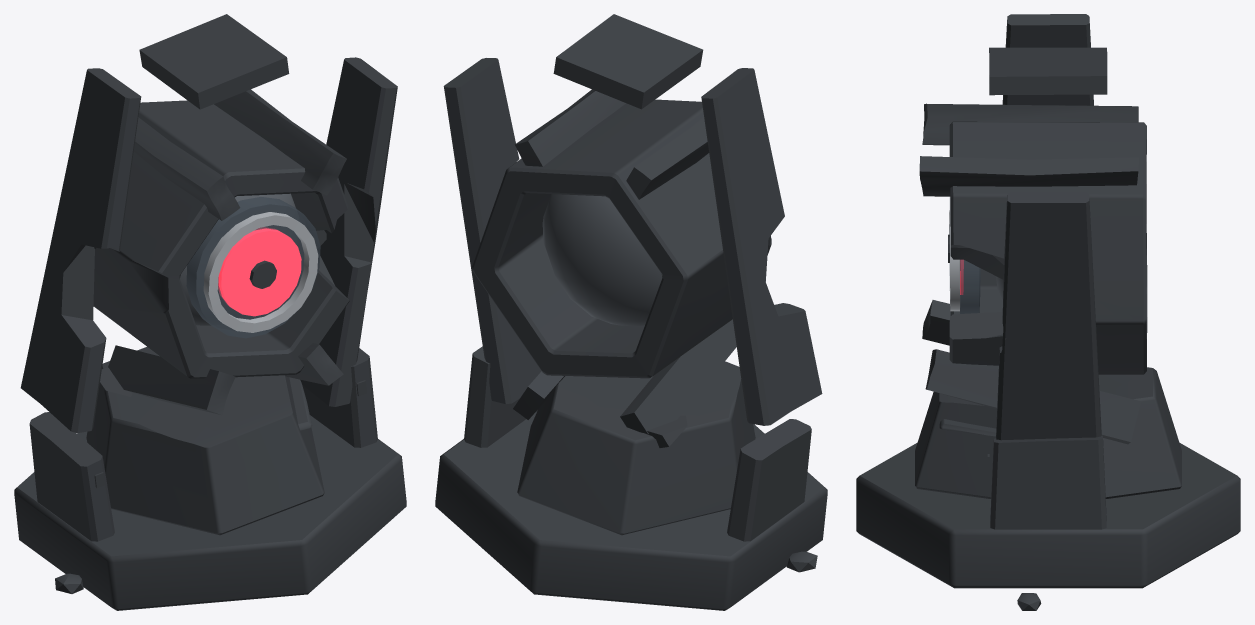
Rendered from cvt_deb_surveillance_core_a.glb.
3 views of the same model, side by side, from view 1: azimuth 30°, elevation 25°; view 2: azimuth 150°, elevation 25°; view 3: azimuth 270°, elevation 25° (orthographic).
Parts seen in each view (by area): view 1: frag_05, husk, frag_06, frag_04, frag_01, frag_03, frag_02; view 2: frag_05, husk, frag_06, frag_04, frag_01, frag_03, frag_02; view 3: husk, frag_05, frag_01, frag_06, frag_02, frag_03, frag_04.
Boxes of the visible parts, left/top/right/bottom form: frag_05: left=20, top=57, right=397, bottom=432; husk: left=14, top=347, right=406, bottom=610; frag_06: left=139, top=14, right=289, bottom=109; frag_04: left=108, top=345, right=311, bottom=430; frag_01: left=214, top=89, right=346, bottom=195; frag_03: left=134, top=117, right=240, bottom=220; frag_02: left=285, top=343, right=343, bottom=385; frag_05: left=443, top=58, right=822, bottom=425; husk: left=435, top=346, right=827, bottom=610; frag_06: left=553, top=14, right=703, bottom=109; frag_04: left=620, top=319, right=736, bottom=433; frag_01: left=514, top=89, right=625, bottom=166; frag_03: left=626, top=117, right=709, bottom=199; frag_02: left=513, top=371, right=564, bottom=419; husk: left=856, top=367, right=1240, bottom=610; frag_05: left=948, top=14, right=1147, bottom=440; frag_01: left=919, top=156, right=1138, bottom=196; frag_06: left=989, top=47, right=1107, bottom=95; frag_02: left=925, top=349, right=1141, bottom=444; frag_03: left=922, top=103, right=1138, bottom=145; frag_04: left=922, top=300, right=996, bottom=436.
Bounding box in the file's own units: 0.7976 × 1.12 × 0.7846.
